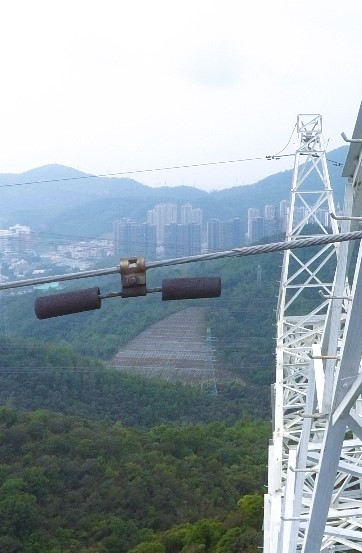Shockproof hammer: (29, 249, 230, 321)
